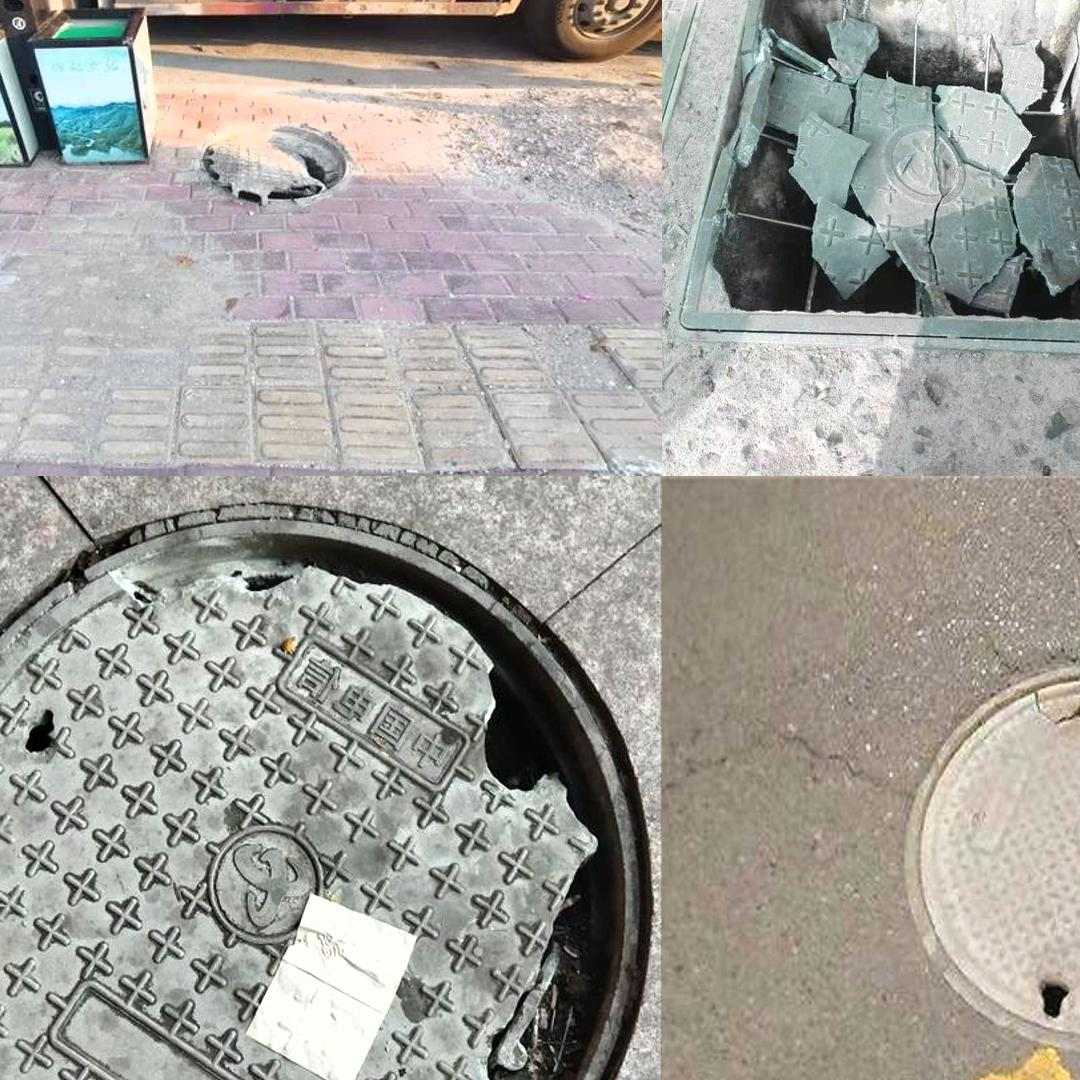broke: (5, 498, 647, 1080), (700, 0, 1080, 359), (891, 642, 1080, 1060), (174, 102, 369, 235)
